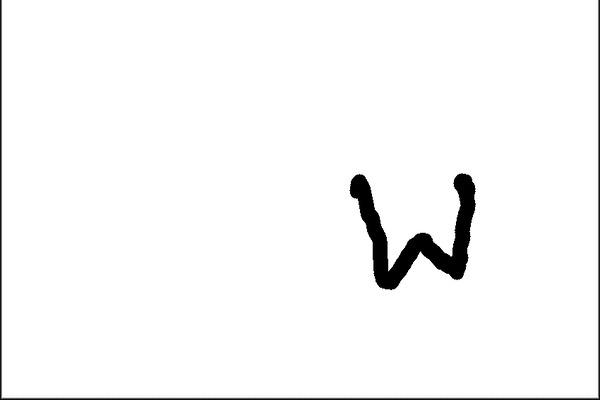w: (326, 159, 500, 314)
